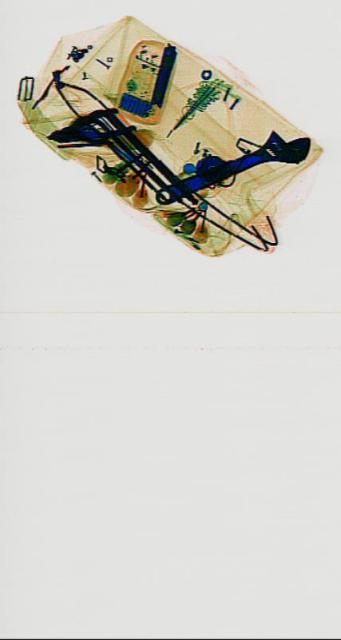Pliers: (45, 96, 135, 158)
Wrench: (150, 113, 311, 214)
